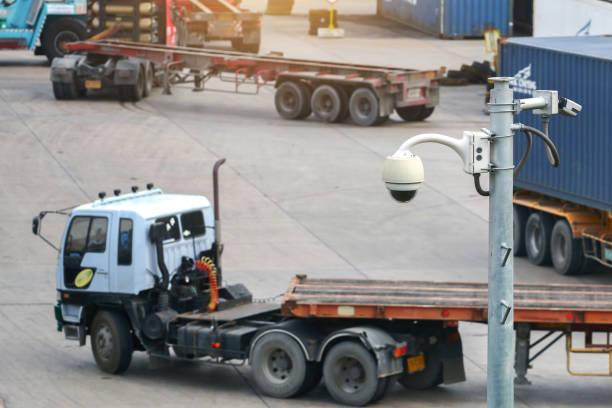camera: (368, 131, 443, 225)
